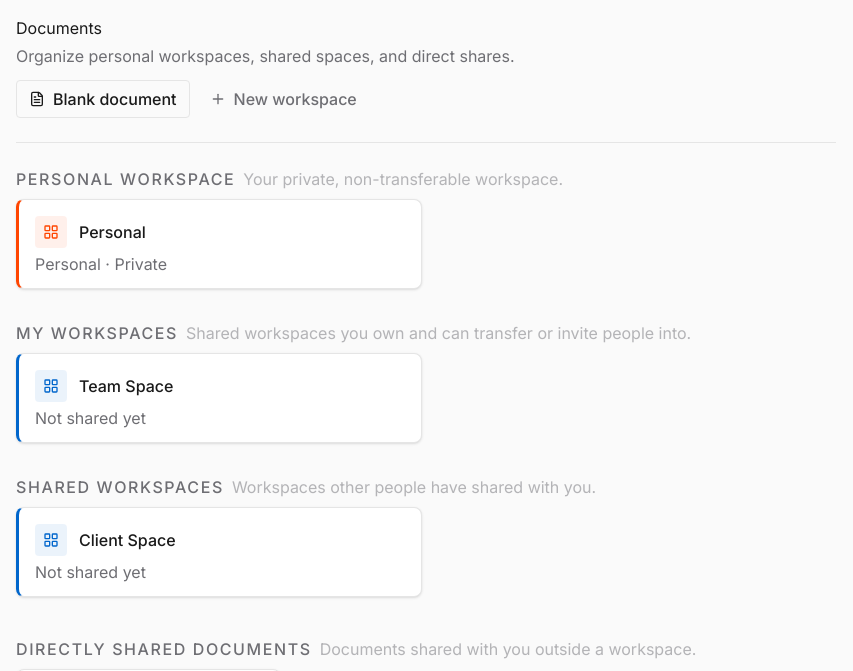
DocumentList › groups personal documents separately from shared workspaces and direct shares
This screenshot has width=853, height=671.
Expected: the heading "Personal workspace" is shown, [16, 167, 235, 191]
Expected: the heading "My workspaces" is shown, [16, 321, 178, 345]
Click the button "Personal" at (51, 232), box [19, 200, 421, 252]
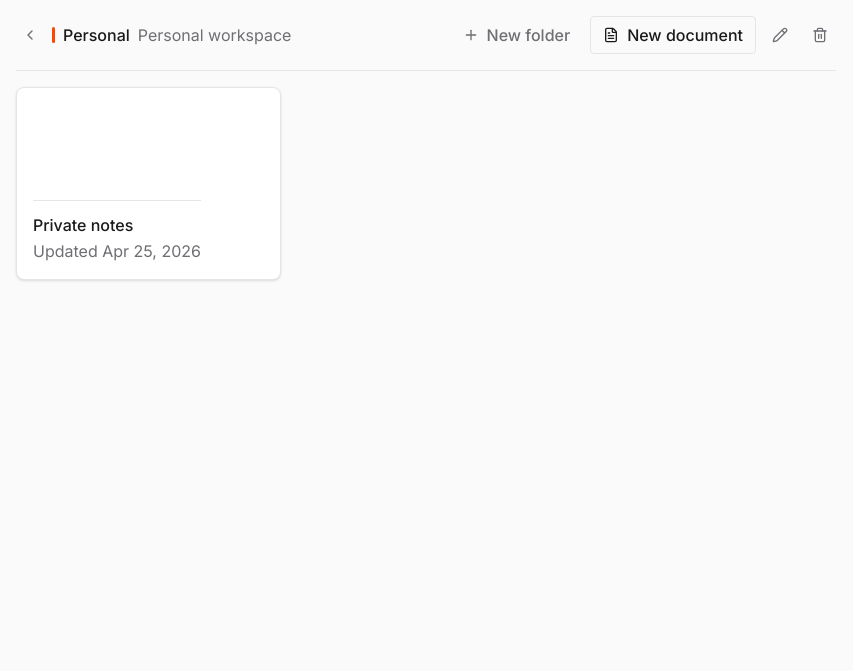
Result: the text "Private notes" is shown at [33, 215, 133, 235]
Click the button named "caret" at (30, 35), box [16, 21, 44, 49]
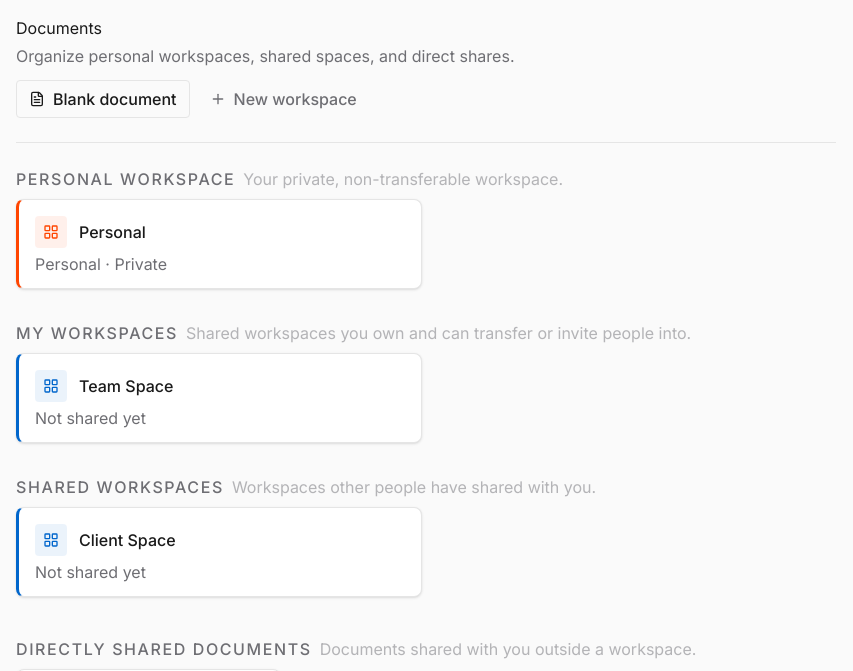
Click the button "Team Space" at (51, 386), box [19, 354, 421, 406]
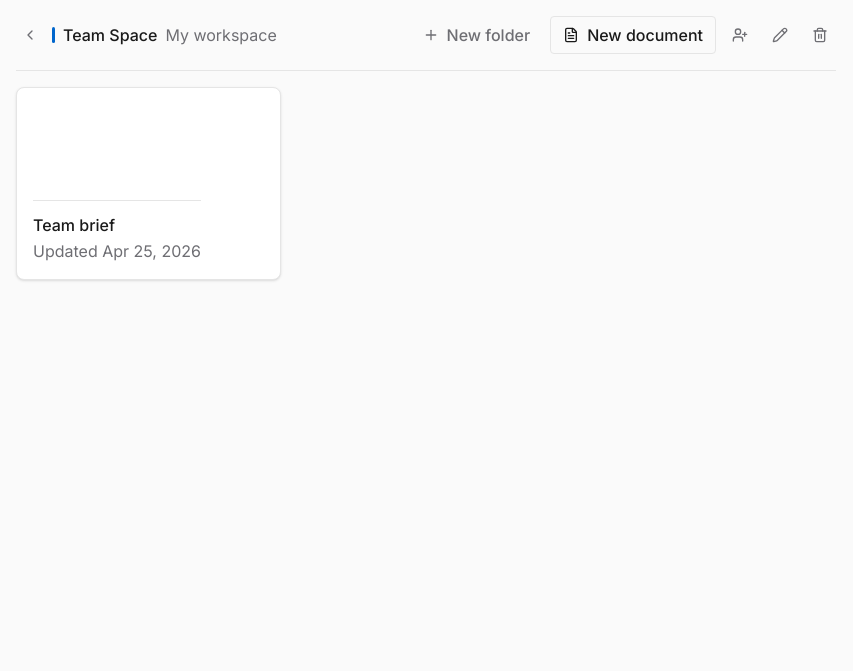
Result: the text "Team brief" is shown at [33, 215, 115, 235]
